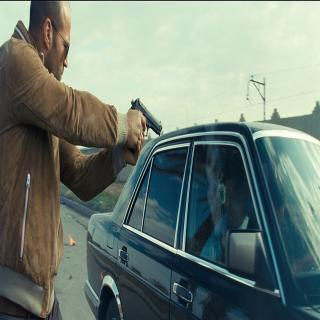gun: (126, 91, 162, 163)
